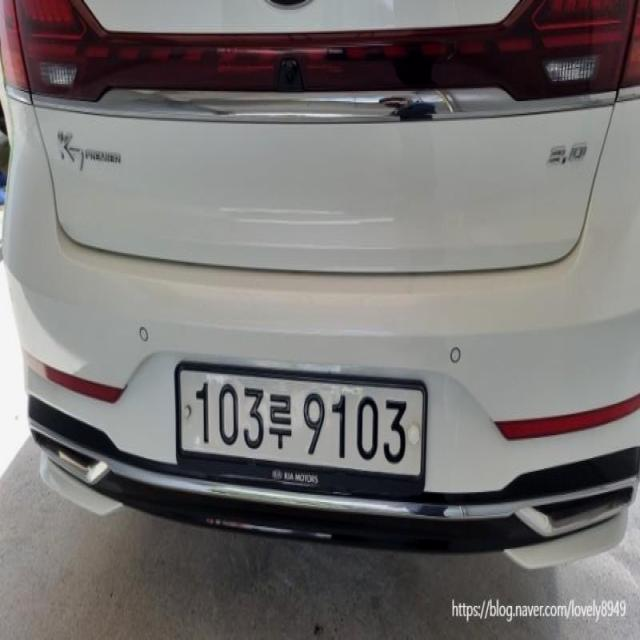illegal_plate: (177, 356, 429, 507)
